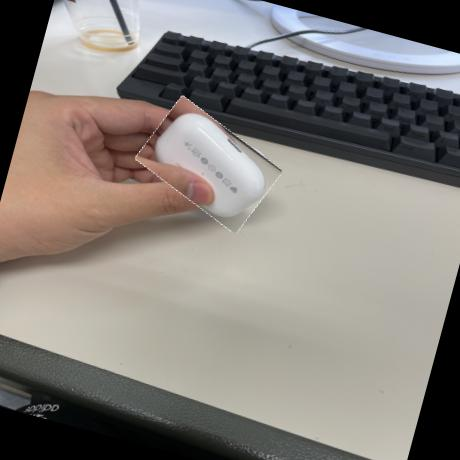airpod3: (130, 99, 287, 230)
